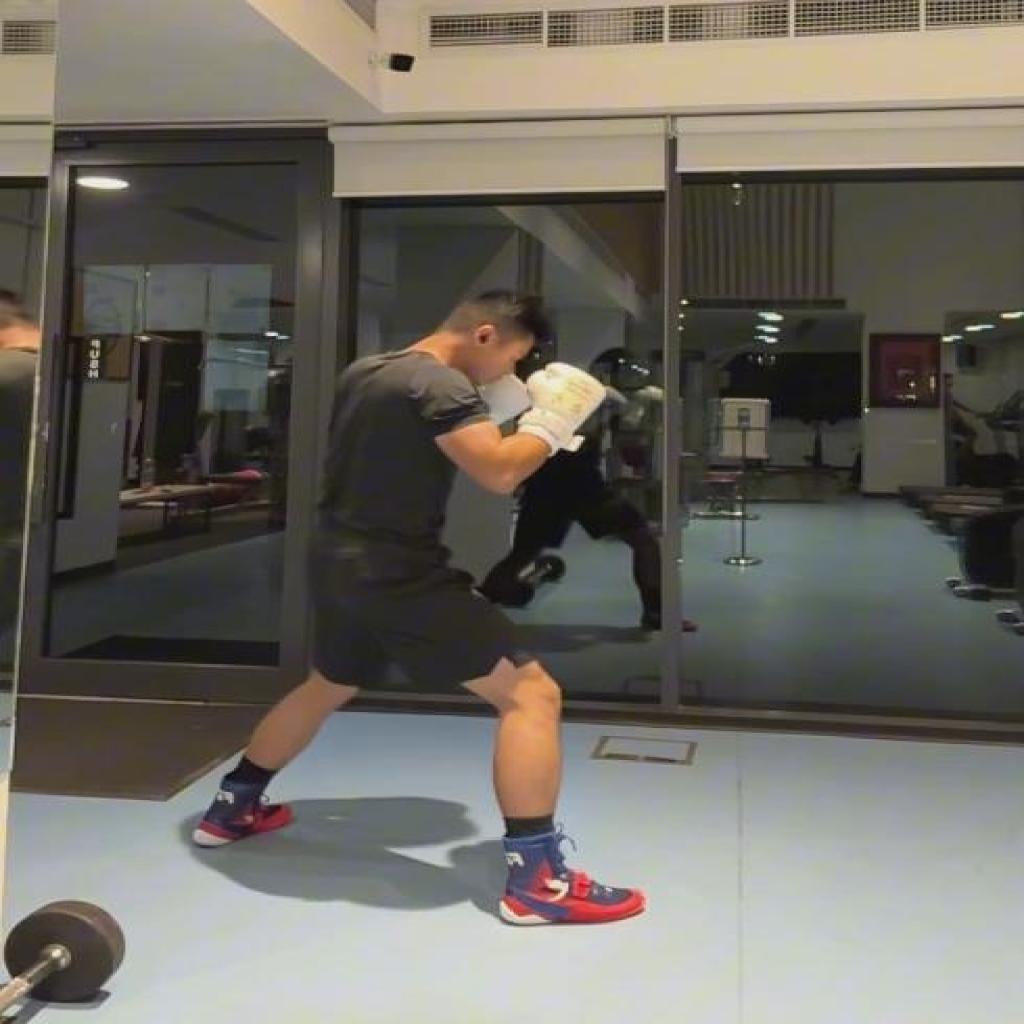no punch: (186, 286, 650, 928)
